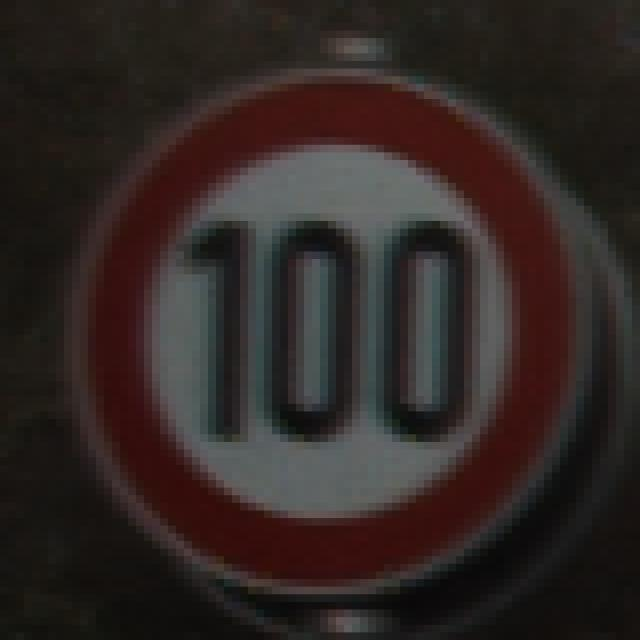speed limit 100: (59, 63, 599, 596)
